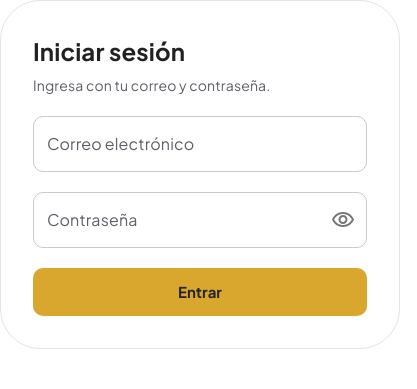
LoginForm › rejects an email with an invalid format
Step 1. Type "admin@" into the field labelled "Correo electrónico" → [200, 144], box [33,116,367,172]
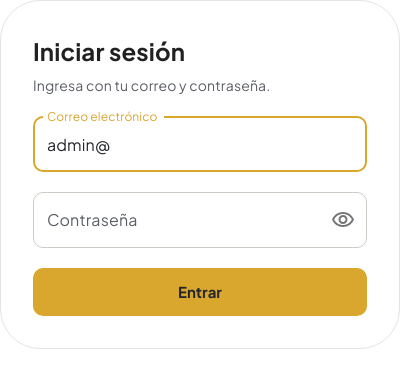
Step 2. Type "secreto123" into the password field labelled "Contraseña" → [173, 220], box [33,192,313,248]
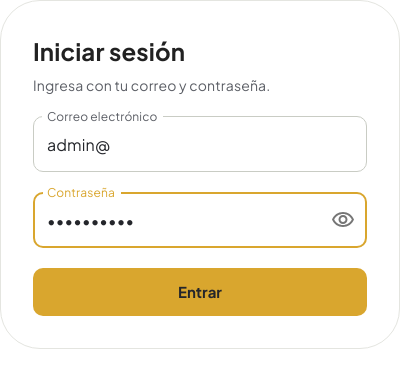
Step 3. Click the button "Entrar" → [200, 292], box [33,268,367,316]
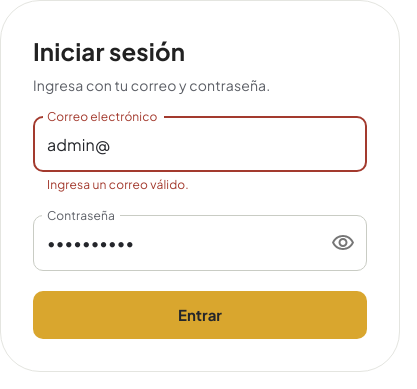
expect the text "Ingresa un correo válido." is shown: met, box [47,177,189,192]
